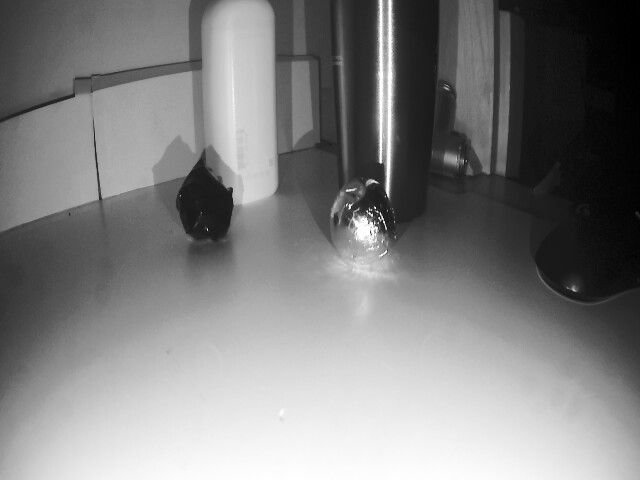black: (169, 173, 236, 238)
silver: (329, 183, 393, 263)
